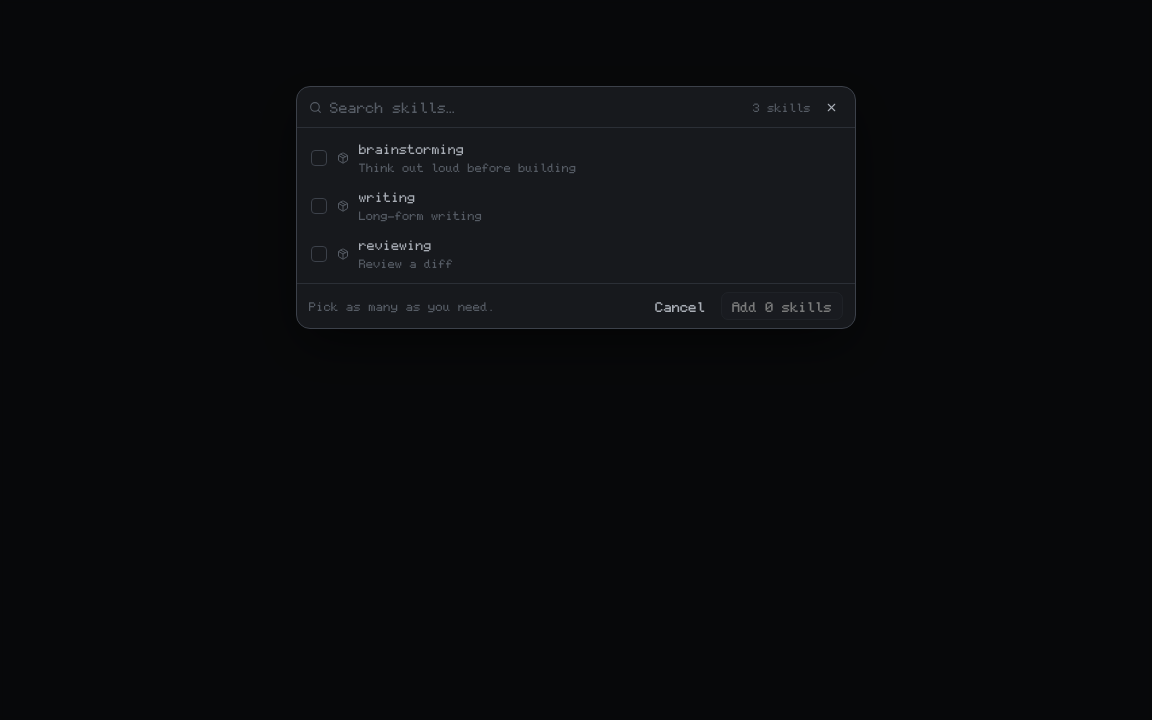
Test: SkillPicker › searches by name and description
Type "think" into the field labelled "Search skills".
click(538, 107); type("think")  # box left=330, top=97, right=745, bottom=118
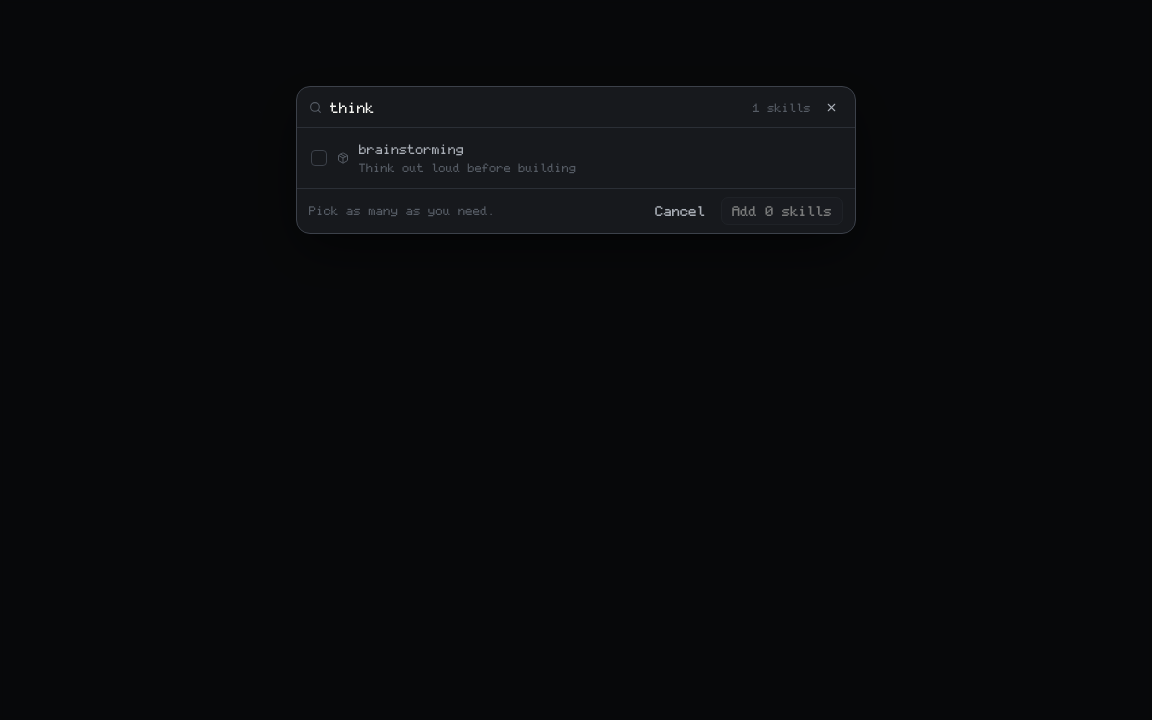
Expected: the text "brainstorming" is shown, left=359, top=141, right=464, bottom=157
Now the button "writing" is gone
